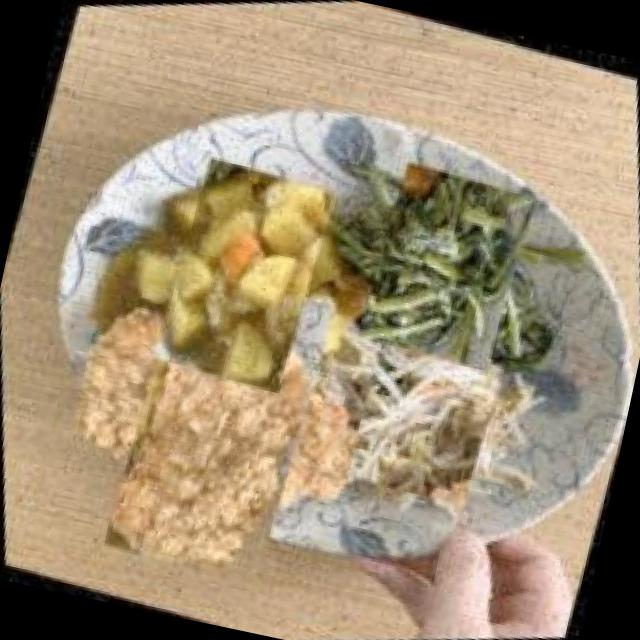curry: (92, 124, 392, 424)
fried_chicken: (16, 224, 418, 626)
mung_bean_sprouts: (302, 299, 543, 540)
water_spinach: (307, 126, 586, 404)
